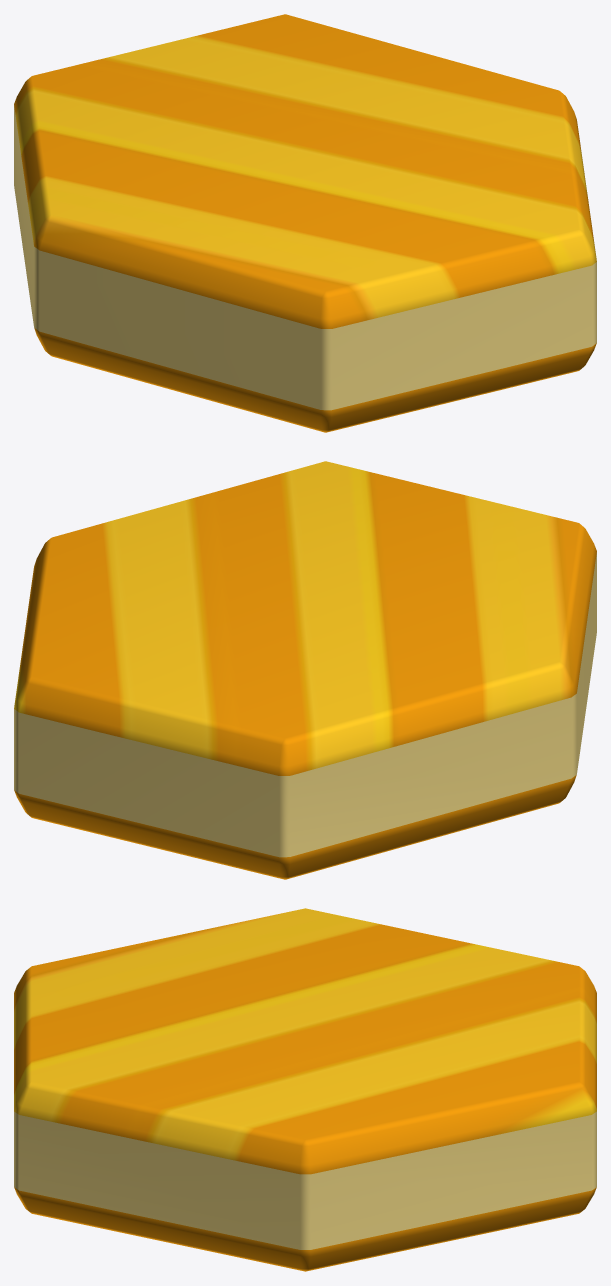
The model's file is toy__hex_platform_sticky_ugc_a_000_1x1.glb.
3 renders of one model, top to bottom at view 1: azimuth 30°, elevation 25°; view 2: azimuth 150°, elevation 25°; view 3: azimuth 270°, elevation 25°, orthographic. The views are drawn at different scales.
Parts seen in each view (by area): view 1: UGC_Toy_HexMrBeastFeast_1x1_A_000_4; view 2: UGC_Toy_HexMrBeastFeast_1x1_A_000_4; view 3: UGC_Toy_HexMrBeastFeast_1x1_A_000_4.
Part boxes in pixels (x1,y1,x2,y2): UGC_Toy_HexMrBeastFeast_1x1_A_000_4: (14, 14, 596, 432); UGC_Toy_HexMrBeastFeast_1x1_A_000_4: (14, 461, 596, 879); UGC_Toy_HexMrBeastFeast_1x1_A_000_4: (14, 908, 596, 1271).
Size of the model in its own units: 0.9912 by 0.25 by 0.9991.
Materials: 1 (1 with a texture image).
